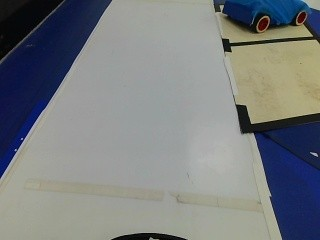car: (221, 0, 310, 34)
